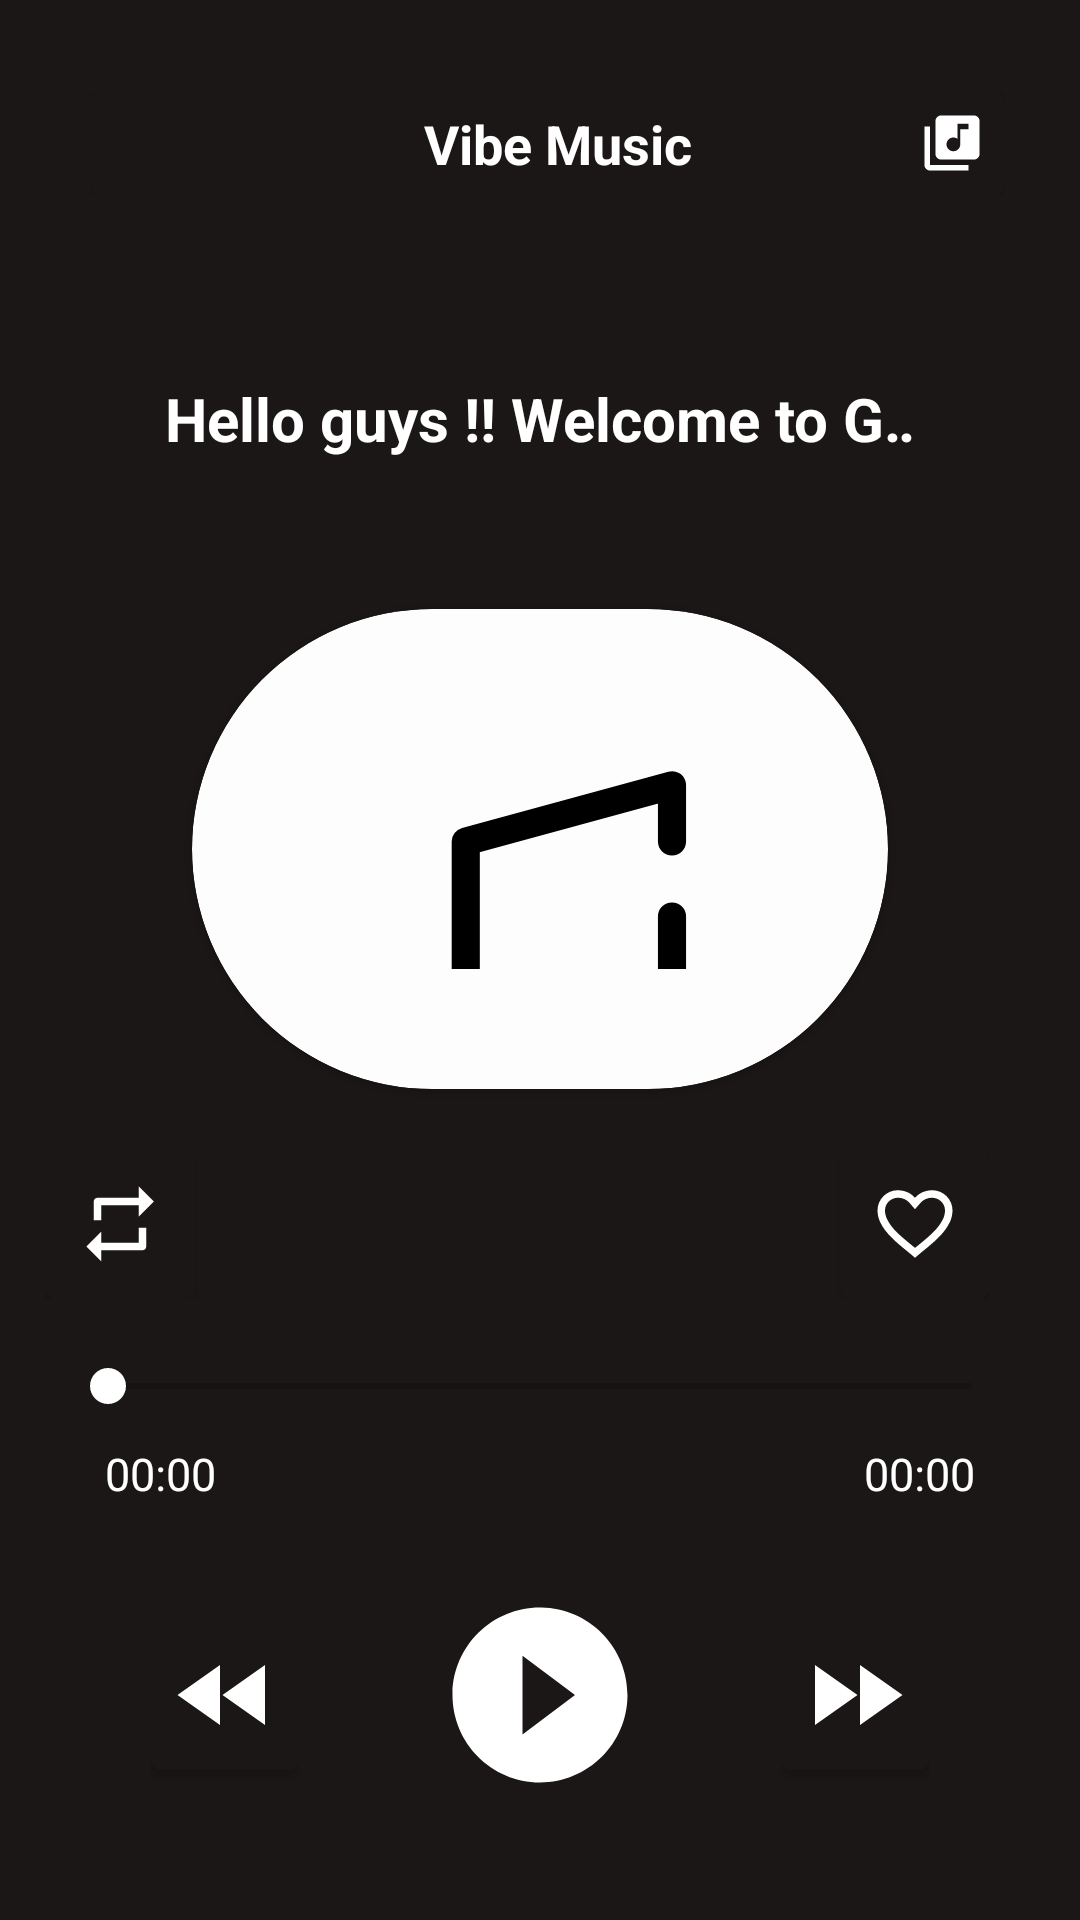

Where to tap for icons on this 1080w x 1920h app screen, as (x=x, y=y):
fast forward: (x=858, y=1695)
fast rewind: (x=221, y=1695)
heart: (x=915, y=1224)
play: (x=540, y=1695)
playlist: (x=952, y=143)
repeat: (x=120, y=1223)
